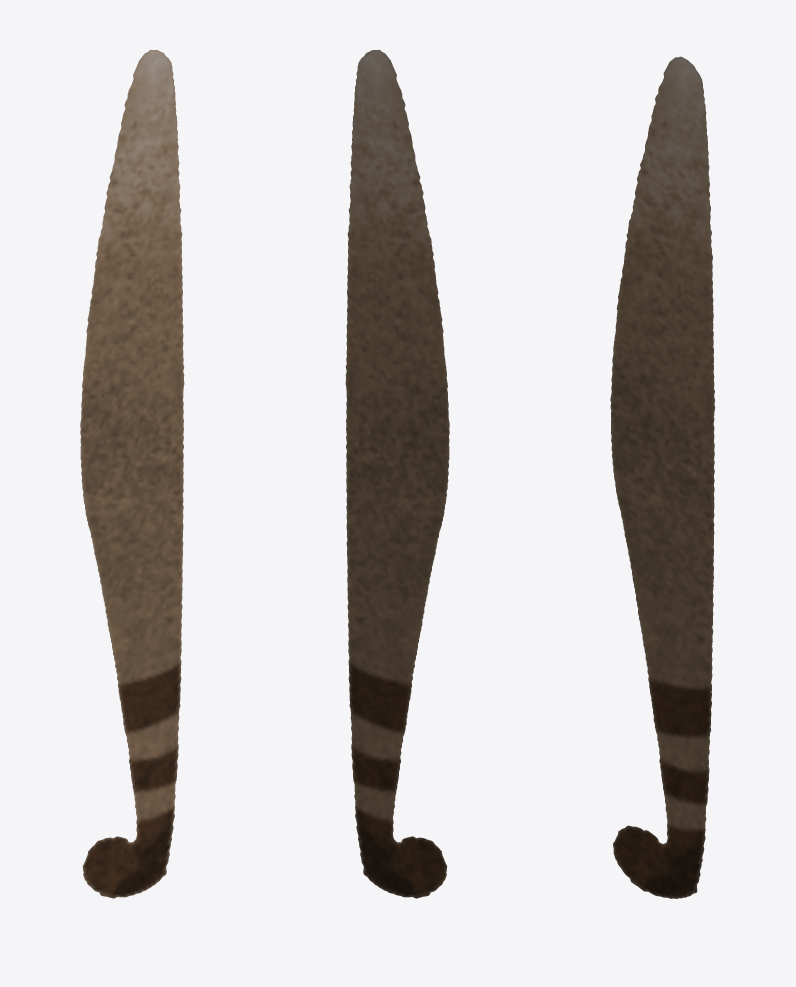
The model's file is Gat_Inicial_Pota.fbx.
The picture shows the model from 3 angles, left to right: view 1: azimuth 30°, elevation 25°; view 2: azimuth 150°, elevation 25°; view 3: azimuth 330°, elevation 25°; orthographic projection.
Parts seen in each view (by area): view 1: pata01; view 2: pata01; view 3: pata01.
Boxes of the visible parts, x1,y1,x2,y2 form: pata01: [80, 50, 184, 898]; pata01: [345, 50, 449, 898]; pata01: [610, 56, 715, 898].
Size of the model in its own units: 965 by 3615 by 0.
